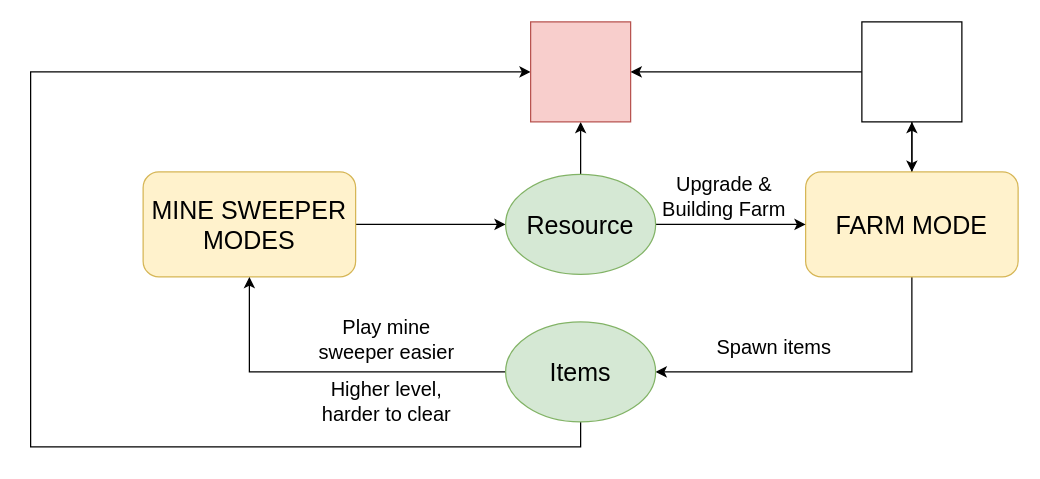
This 1040x479 diagram has some shape labels left out. The centre of each missing label's shape, as x and y in pixels:
"UPGRADE CHARACTER" goes at pixel 580 71.
"UPGRADE PORO (PET)" goes at pixel 911 71.
